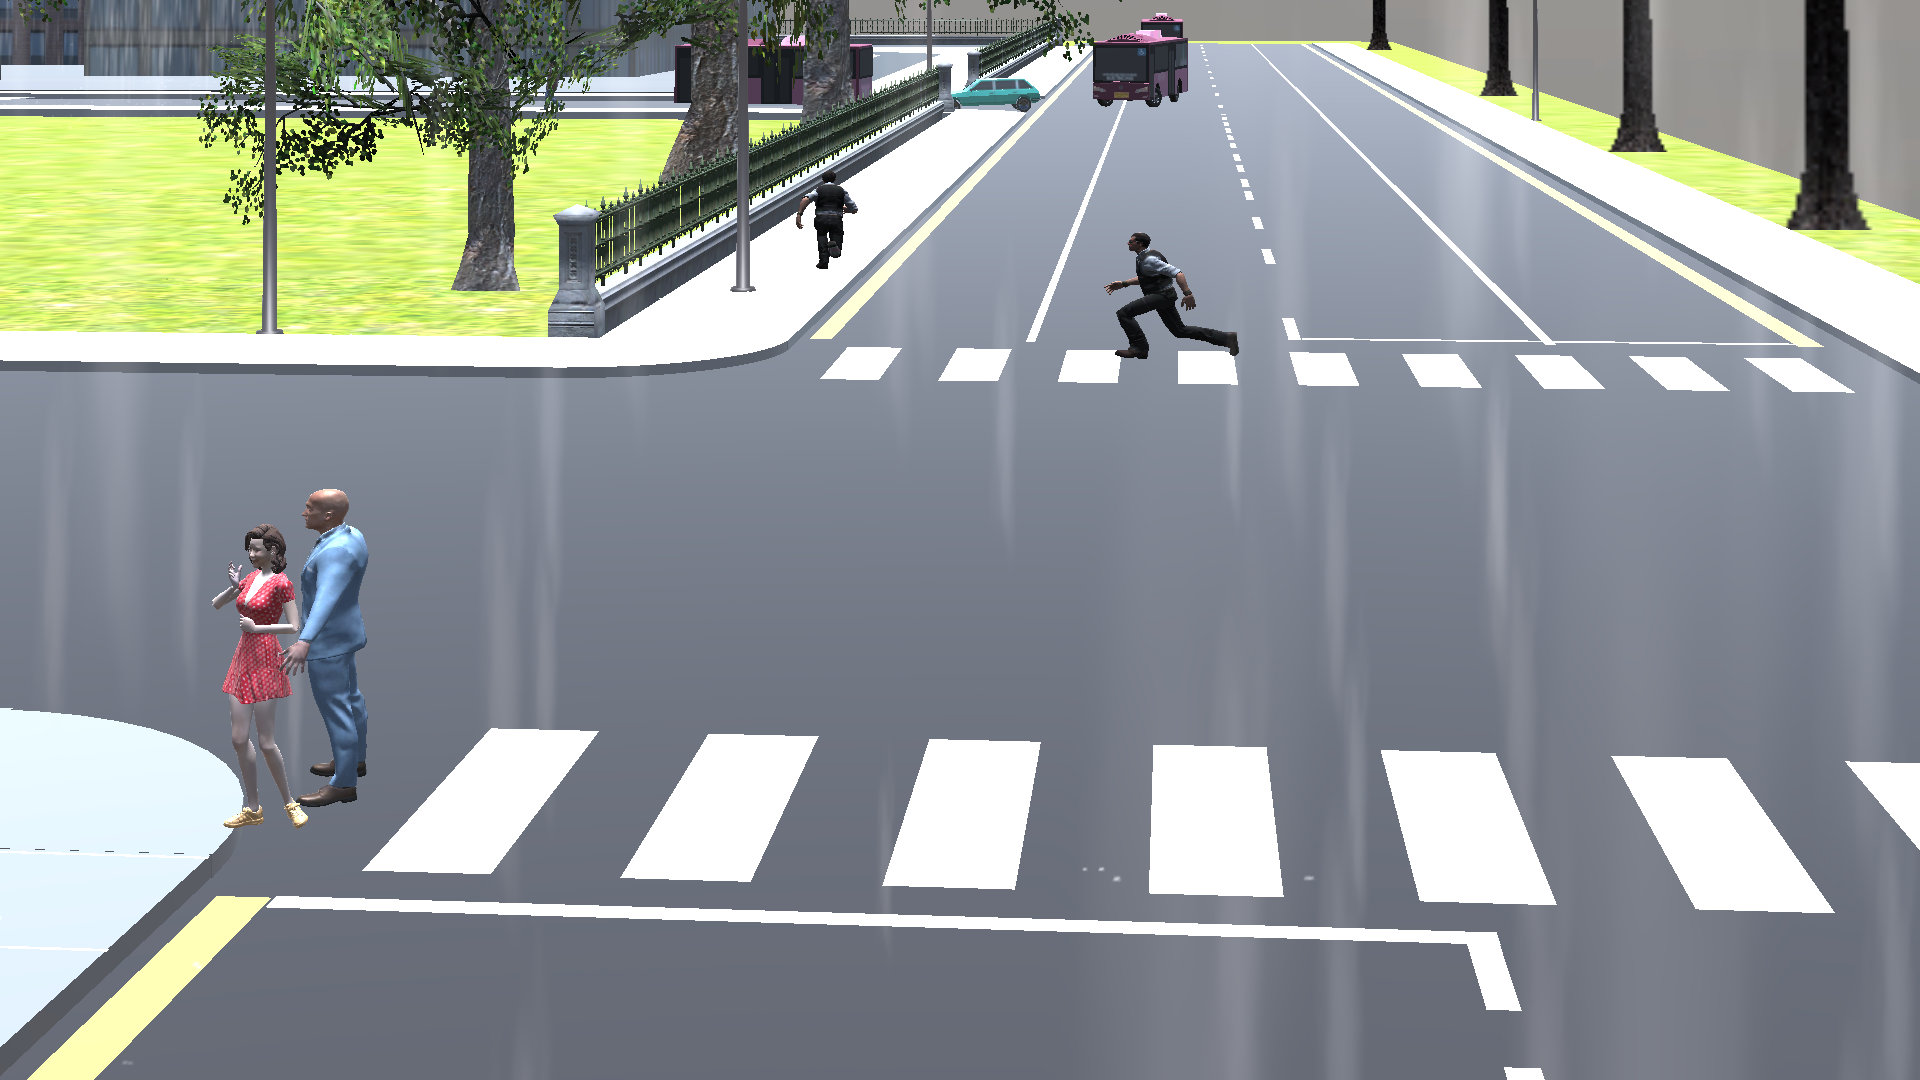pedestrian: (188, 521, 316, 839), (302, 477, 386, 829), (1095, 222, 1251, 403), (778, 167, 874, 291)
